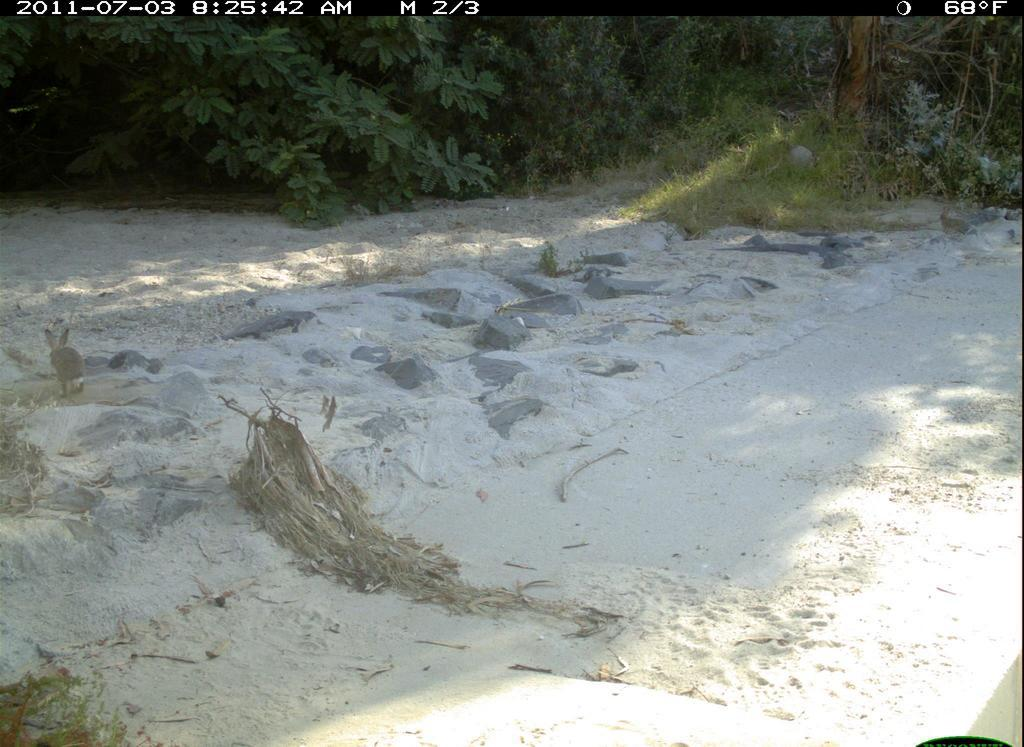rabbit: (40, 327, 90, 400)
